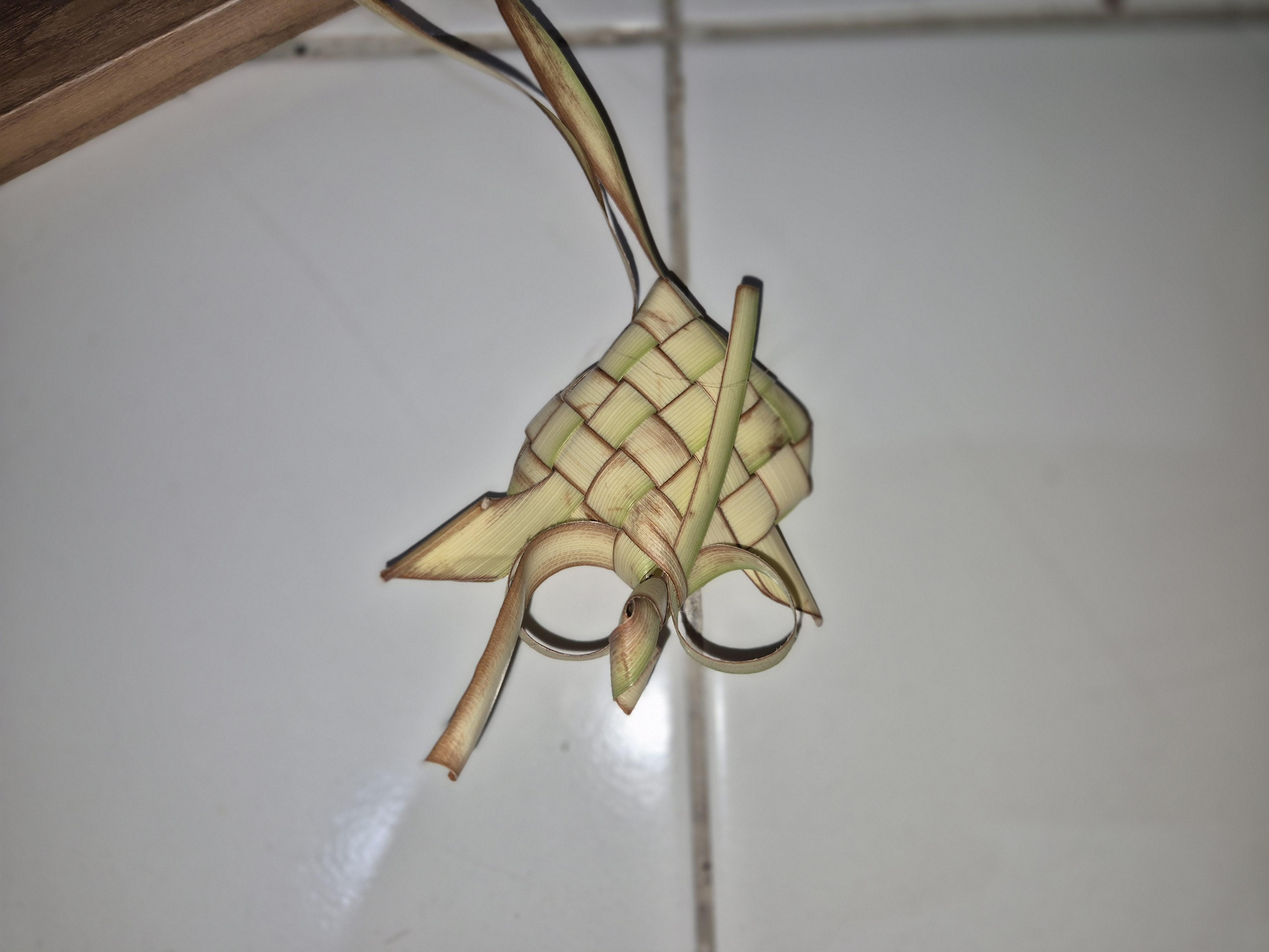Tipat Dampulan: (371, 338, 1039, 664)
